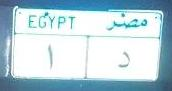1: (46, 44, 57, 70)
daal: (116, 50, 133, 69)
